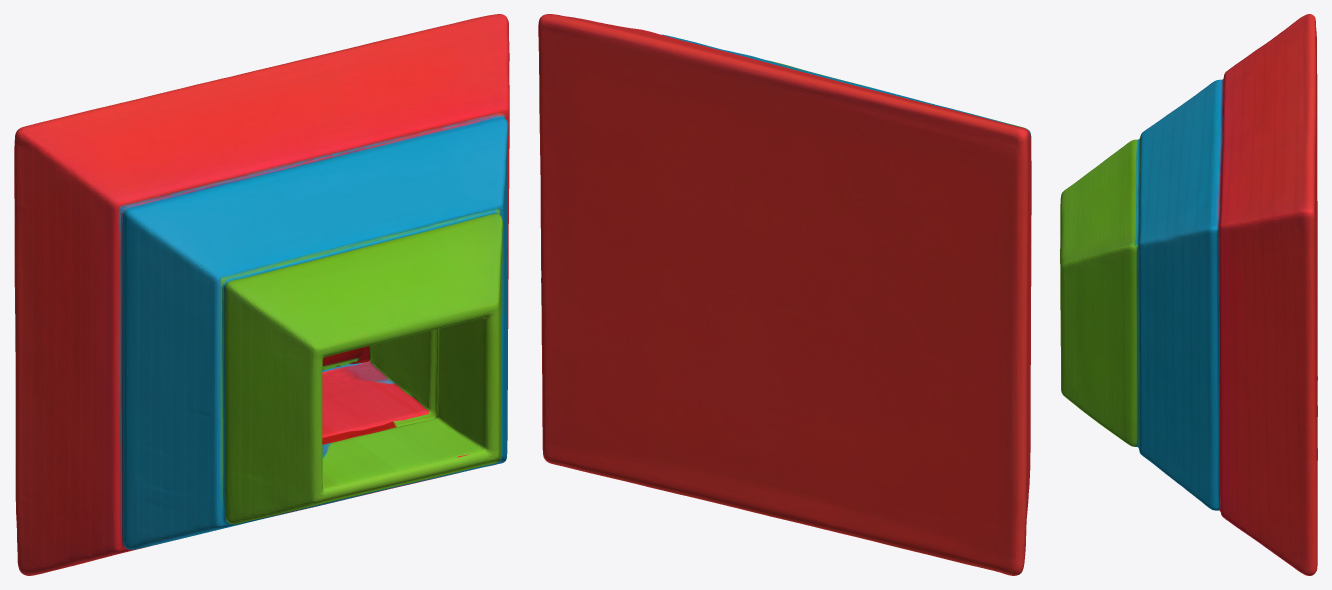
Rendered from colorful_stand_xmhhxj.glb.
3 views of the same model, side by side, from view 1: azimuth 30°, elevation 25°; view 2: azimuth 150°, elevation 25°; view 3: azimuth 270°, elevation 25° (orthographic). The views are drawn at different scales.
Visible parts, largest first — view 1: world; view 2: world; view 3: world.
Part boxes in pixels (left/top/right/bottom): world: left=14, top=14, right=509, bottom=575; world: left=538, top=14, right=1031, bottom=575; world: left=1060, top=14, right=1317, bottom=575.
Size of the model in its own units: 0.1571 by 0.1376 by 0.0865.
1 material, 1 textured.
